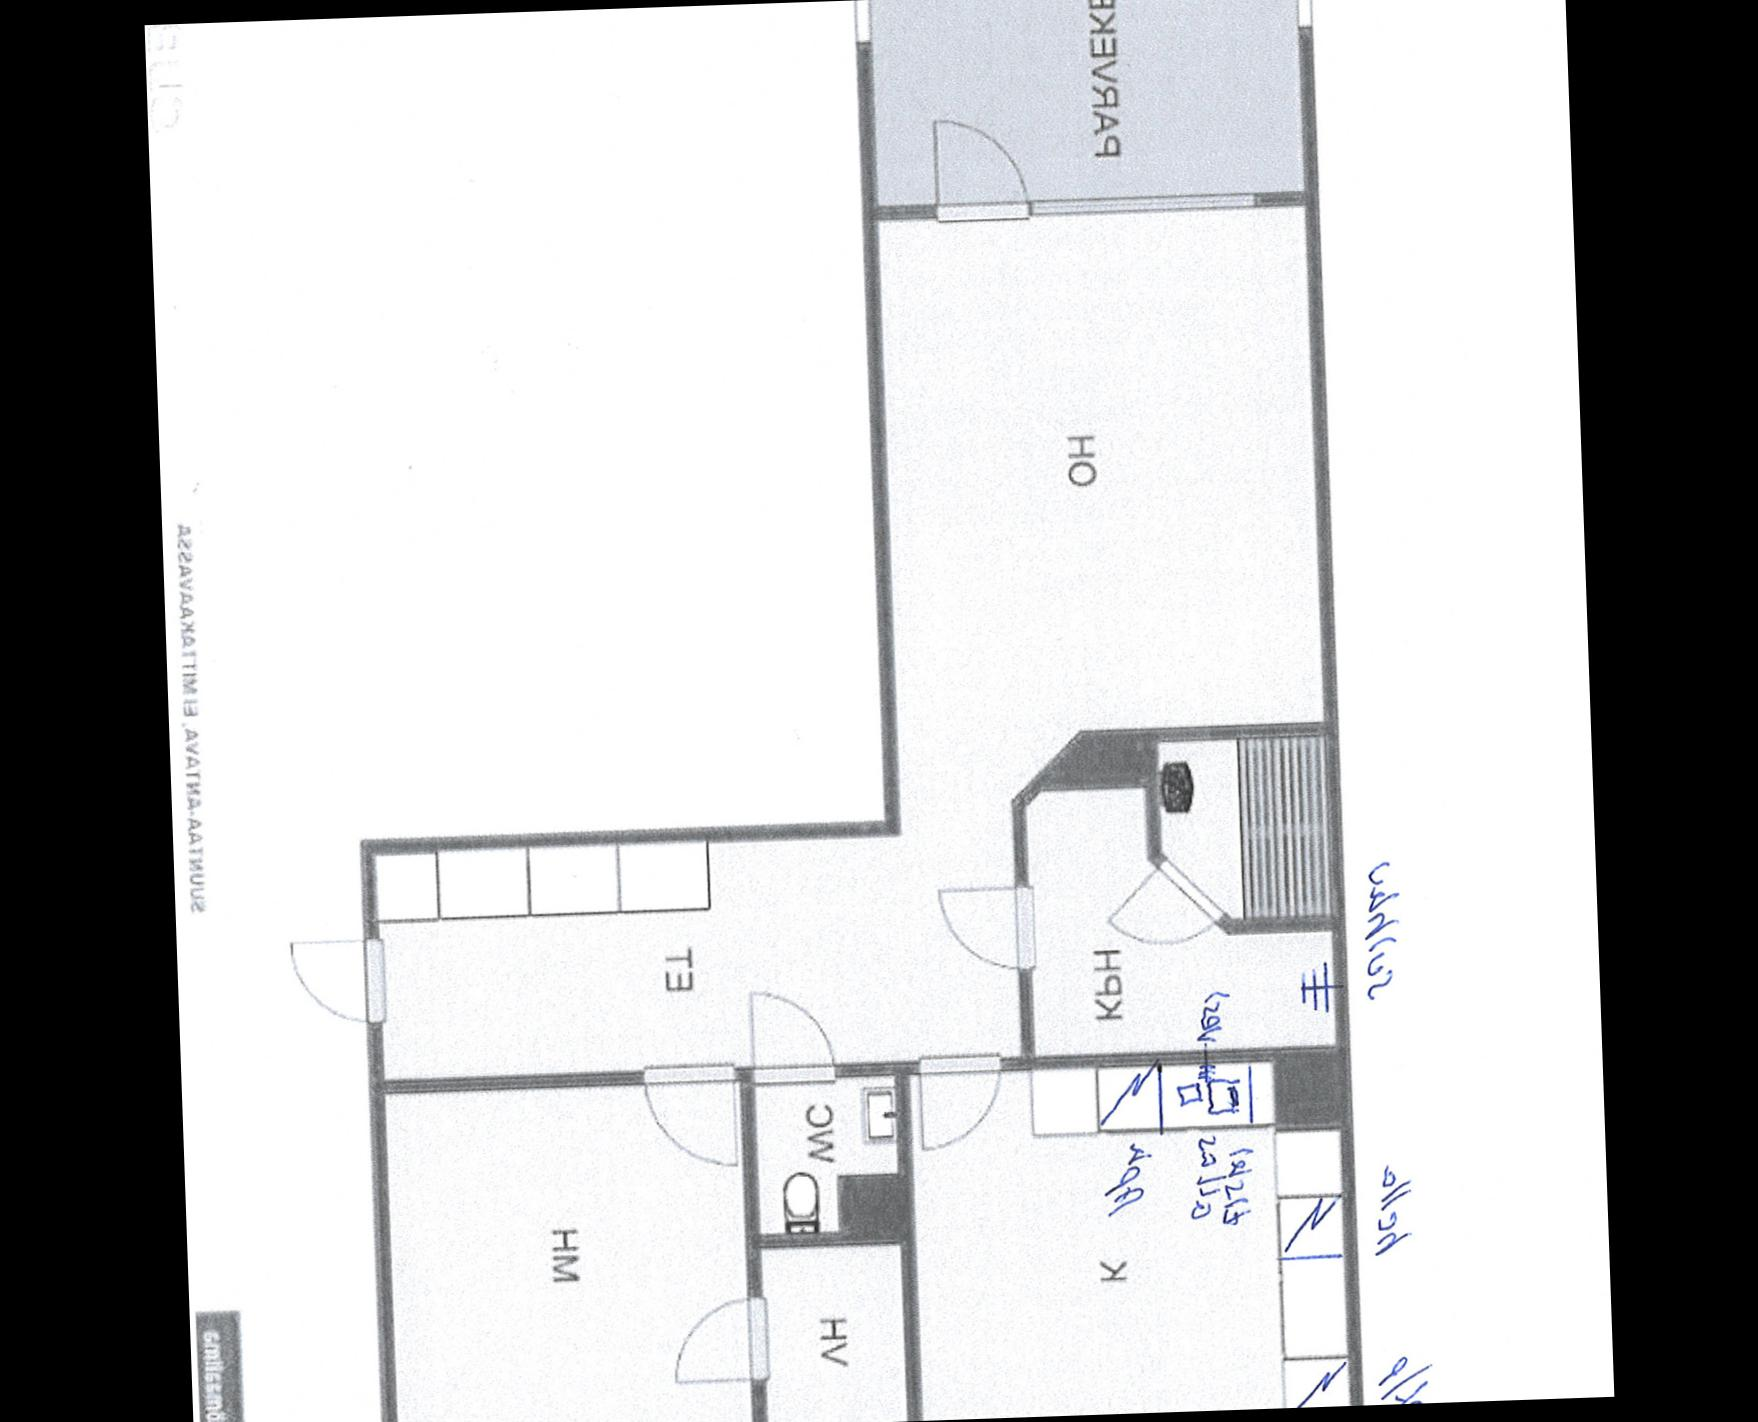door: (924, 112, 1031, 232), (1101, 858, 1227, 955), (930, 875, 1041, 981), (645, 1061, 740, 1181), (280, 930, 387, 1035), (741, 988, 840, 1094), (659, 1299, 769, 1393), (911, 1055, 1008, 1156)
window: (1021, 183, 1269, 223)
